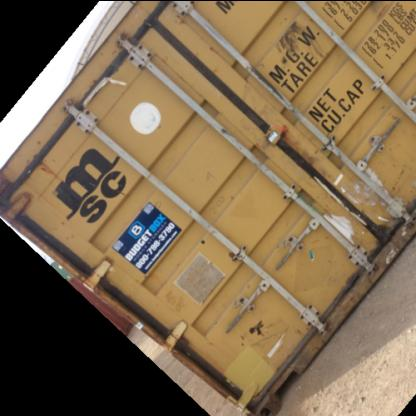Damage: (315, 166, 406, 249), (262, 20, 336, 82), (223, 309, 293, 365), (81, 34, 141, 98), (9, 143, 59, 207), (197, 167, 239, 221), (153, 287, 189, 327)
